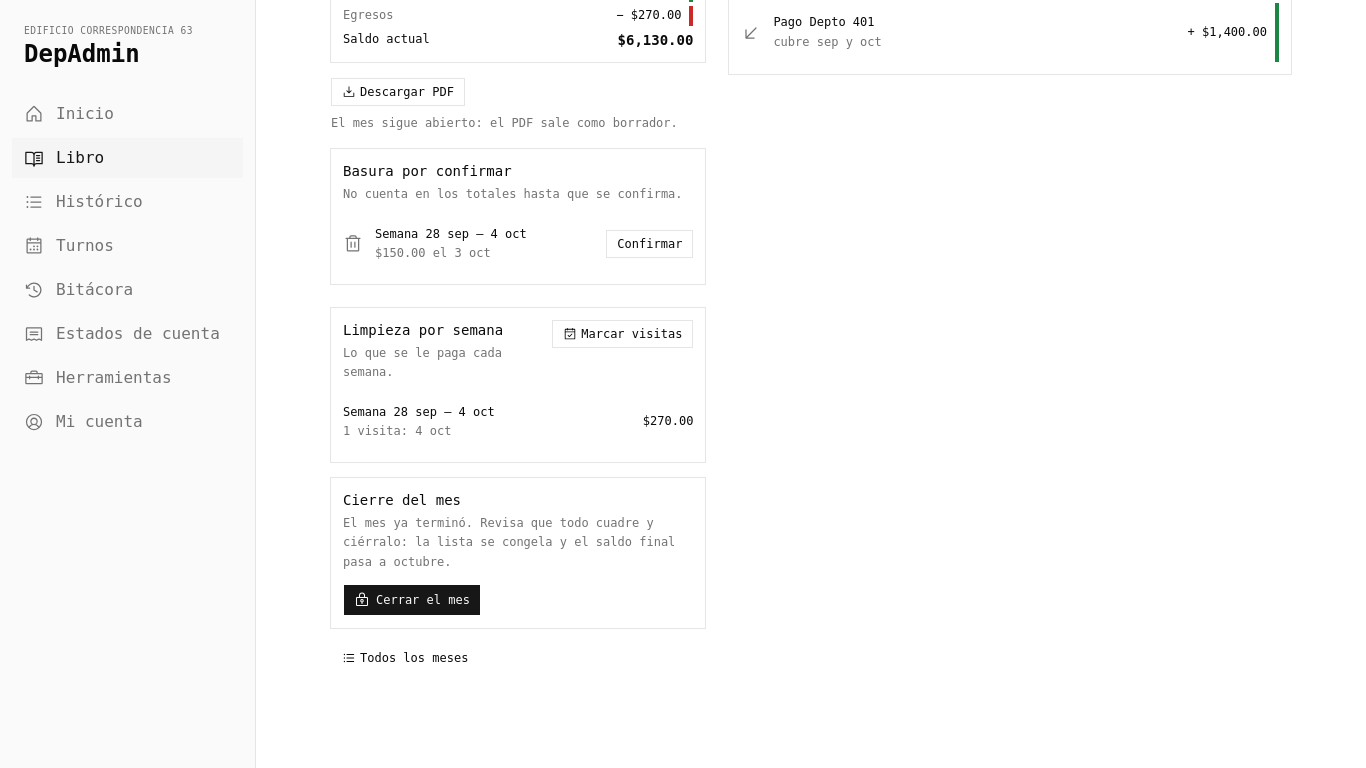
Test case: closing and reopening a month › warns about unpaid garbage weeks before closing, then closes
The image size is (1366, 768).
(page scrolled)
Click the button "Cerrar el mes" at (412, 600), box [343, 584, 481, 616]
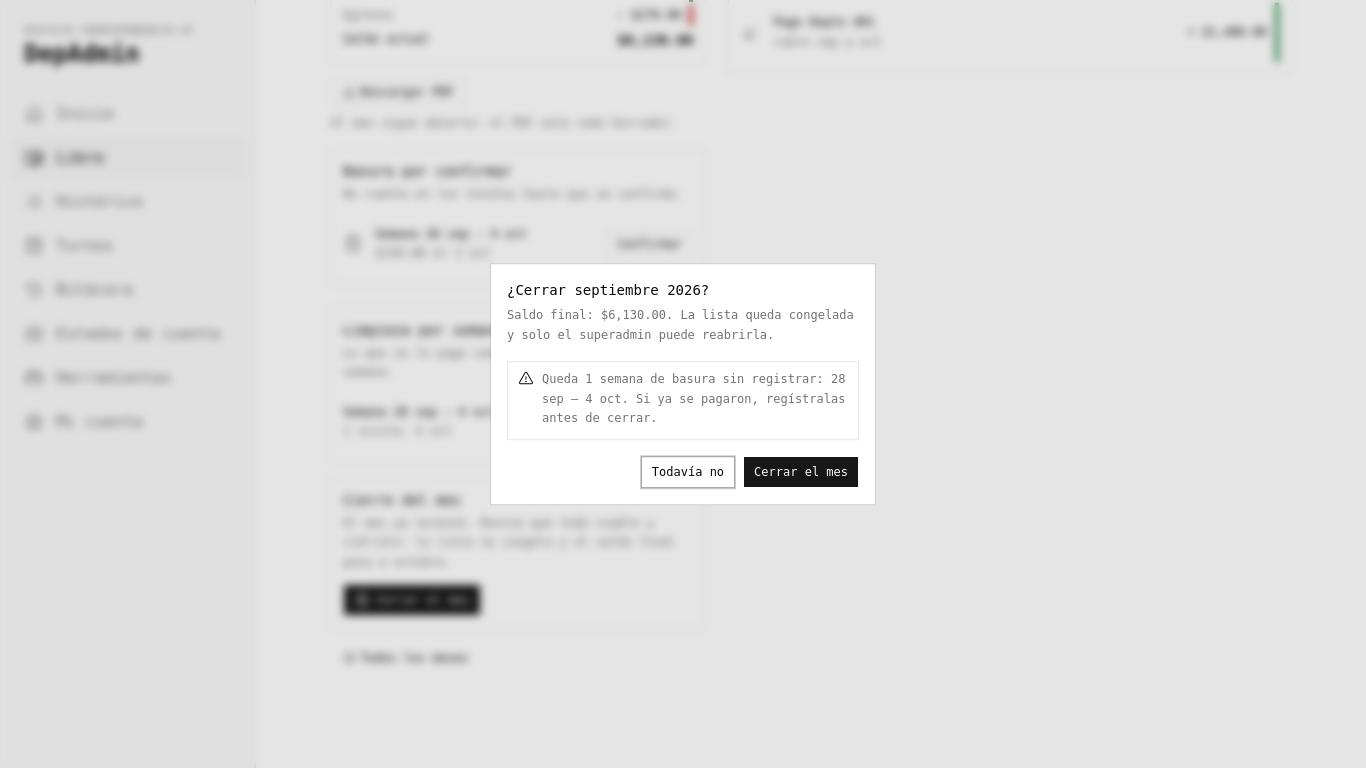
Check: the dialog "¿Cerrar septiembre 2026?" shows "Saldo final: $6,130.00", box [491, 264, 875, 504]
Check: the dialog "¿Cerrar septiembre 2026?" shows "Queda 1 semana de basura sin registrar: 28 sep – 4 oct. Si ya se pagaron, regístralas antes de cerrar.", box [491, 264, 875, 504]
Click the button "Cerrar el mes" at (801, 472), box [743, 456, 859, 488]
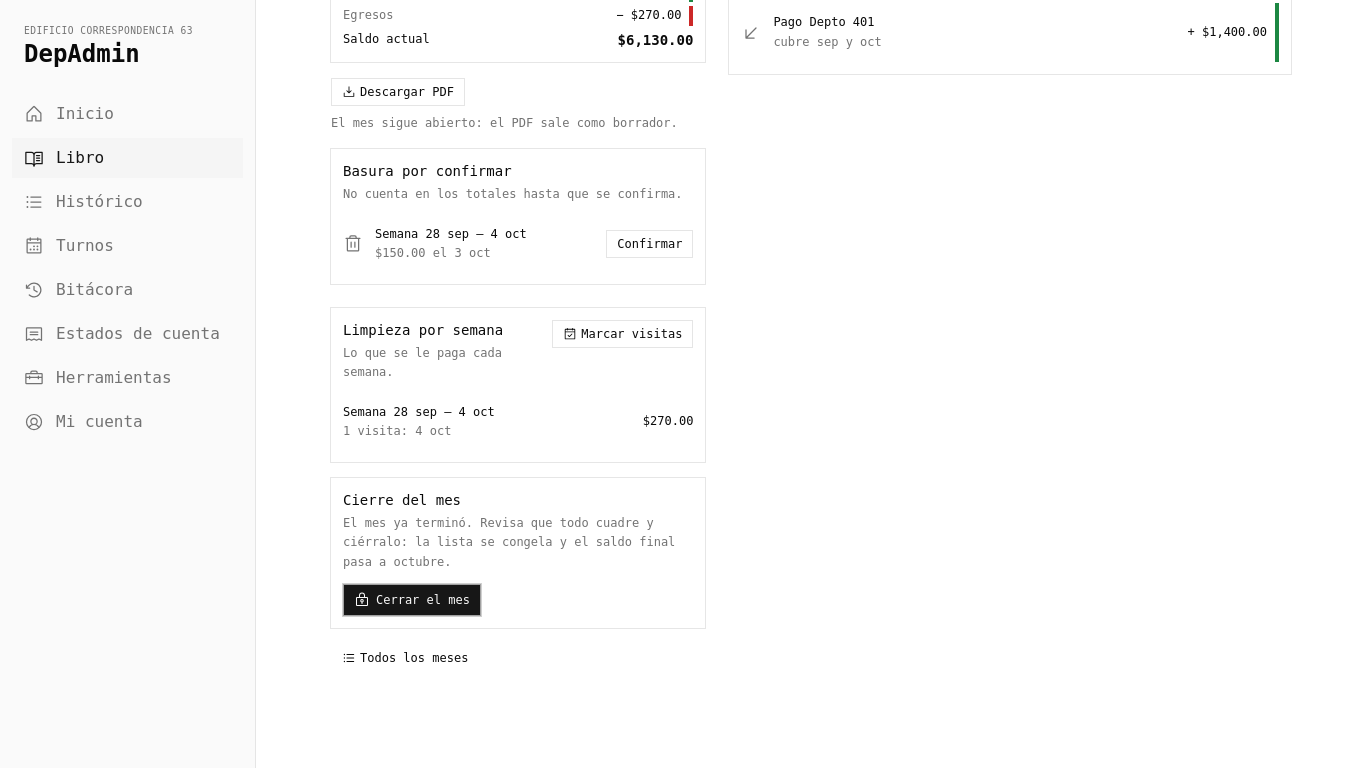
Check: the dialog is gone
